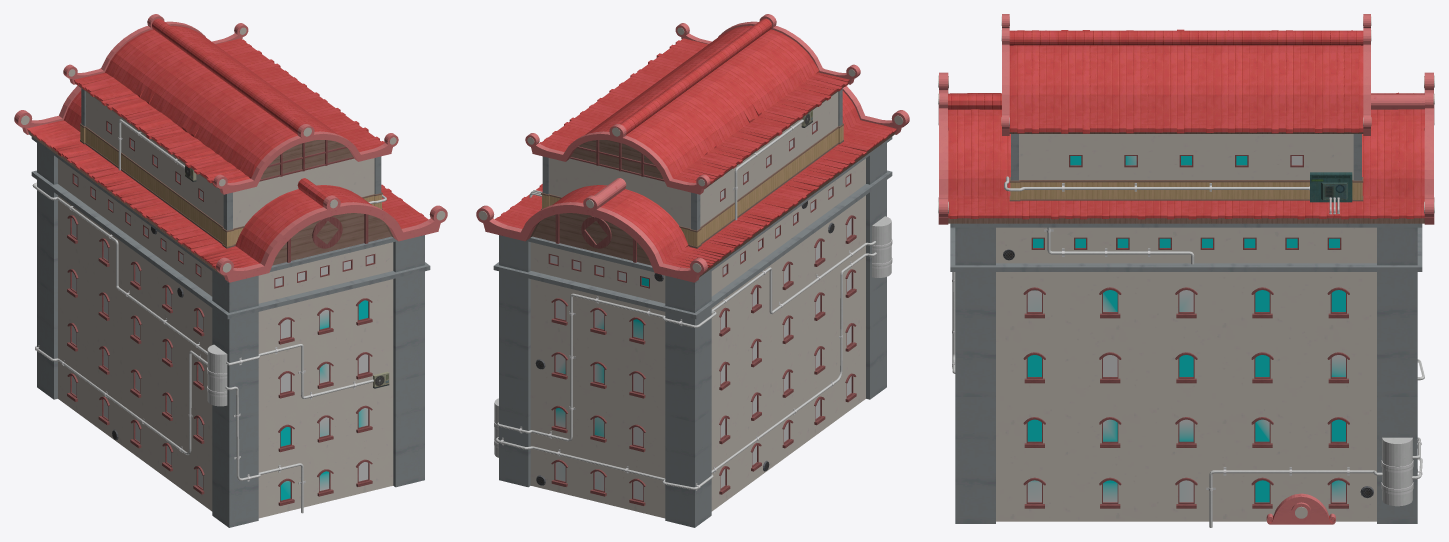
The model's file is SM_ENV_KNVLLG_AreaA_Building_A.fbx.
3 renders of one model, left to right at view 1: azimuth 30°, elevation 25°; view 2: azimuth 150°, elevation 25°; view 3: azimuth 270°, elevation 25°, orthographic. The views are drawn at different scales.
Parts seen in each view (by area): view 1: SM_ENV_KNVLLG_AreaA_Building_A.mo; view 2: SM_ENV_KNVLLG_AreaA_Building_A.mo; view 3: SM_ENV_KNVLLG_AreaA_Building_A.mo.
Boxes of the visible parts, bbox=[...] form: SM_ENV_KNVLLG_AreaA_Building_A.mo: bbox=[14, 14, 447, 527]; SM_ENV_KNVLLG_AreaA_Building_A.mo: bbox=[476, 14, 909, 527]; SM_ENV_KNVLLG_AreaA_Building_A.mo: bbox=[938, 14, 1434, 527].
Size of the model in its own units: 4752 by 7332 by 7454.
